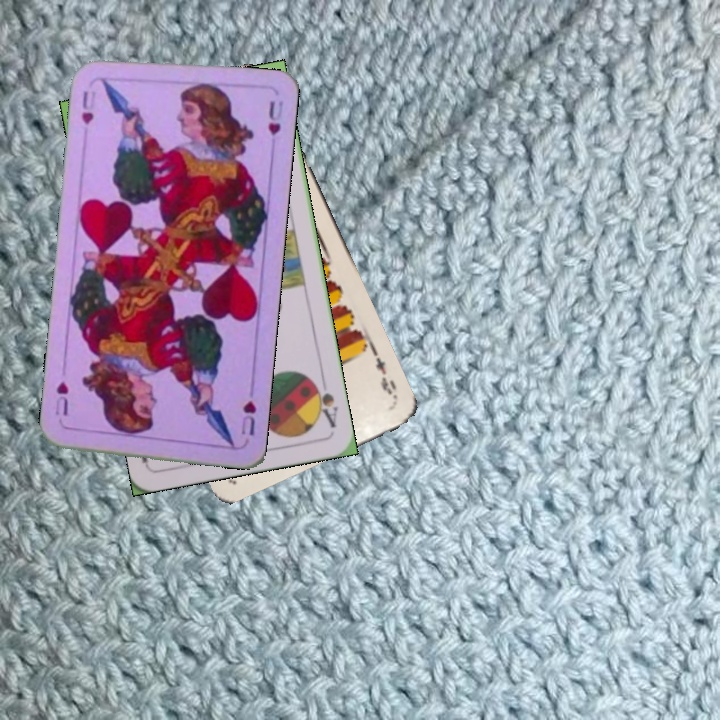E9: (368, 347, 400, 402)
HU: (234, 397, 259, 441), (78, 86, 99, 127)
SA: (308, 375, 340, 431)
